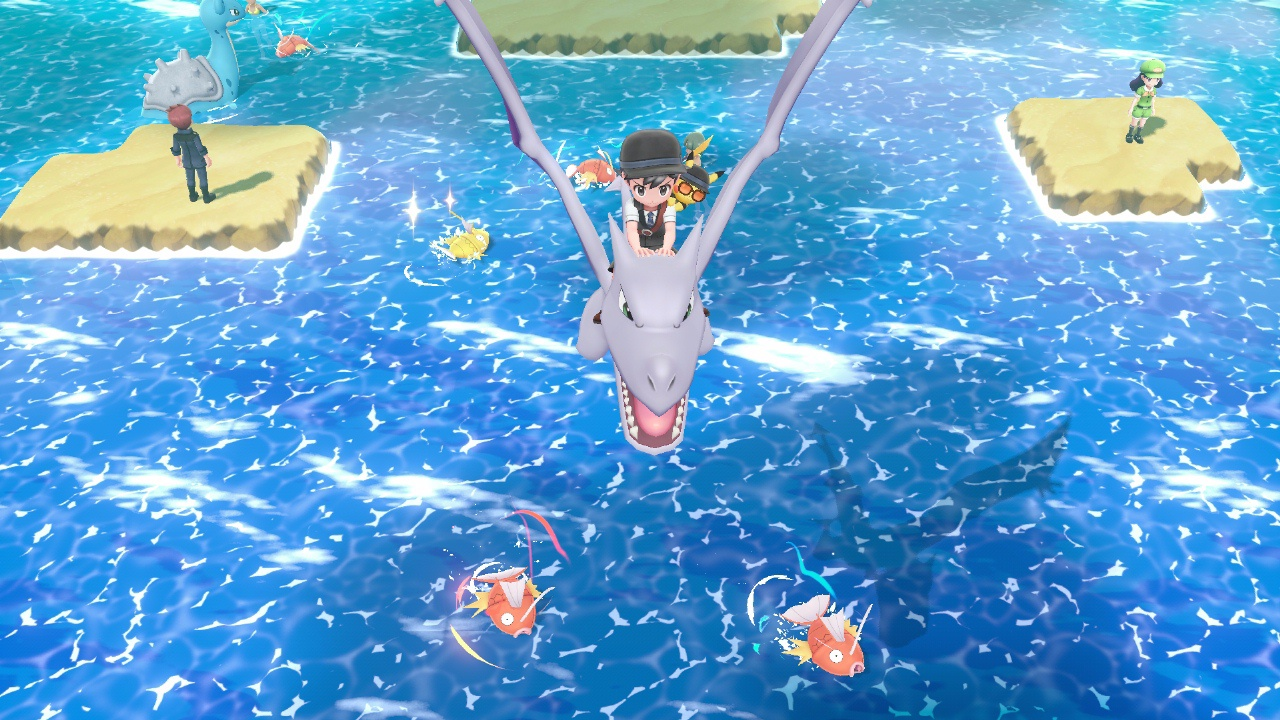Golden: (437, 223, 488, 265)
Red: (781, 591, 870, 681), (468, 565, 543, 638), (568, 152, 618, 189), (274, 27, 313, 59)
